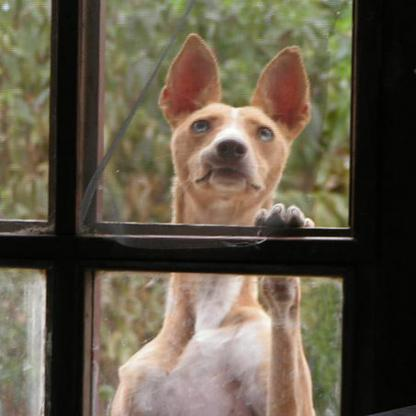dog: (127, 19, 332, 415)
